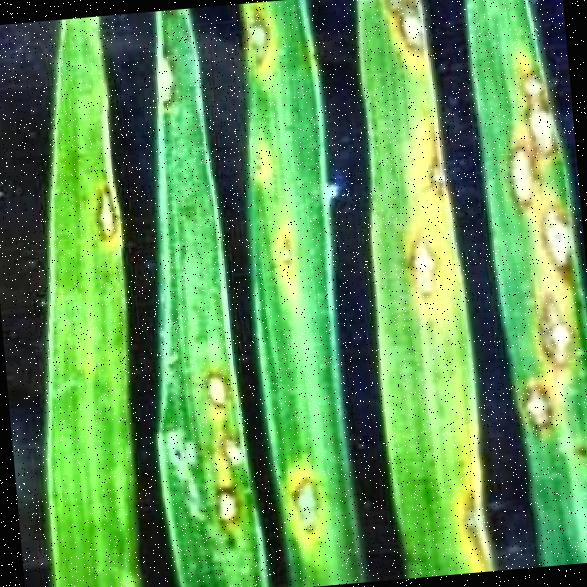Leaf_smut: (468, 38, 587, 500), (68, 162, 122, 266)
